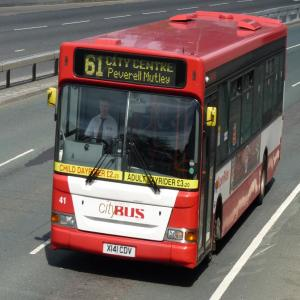Vehicle-registration-plate: (104, 244, 138, 257)
